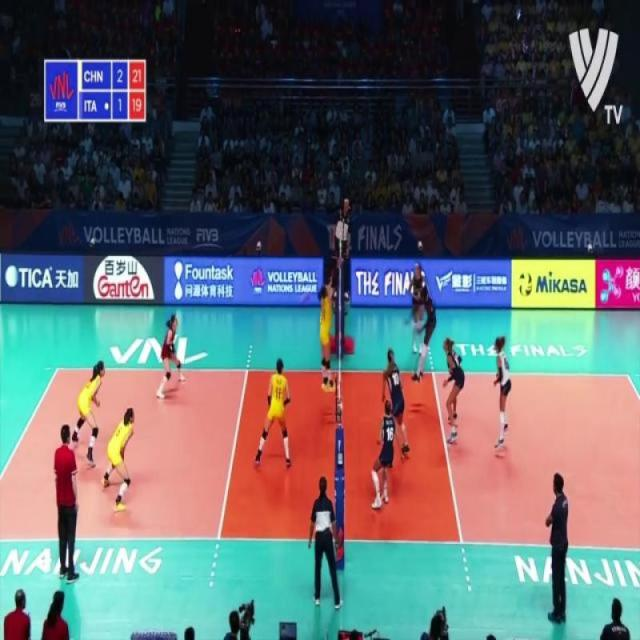volleyball: (518, 274, 534, 296)
